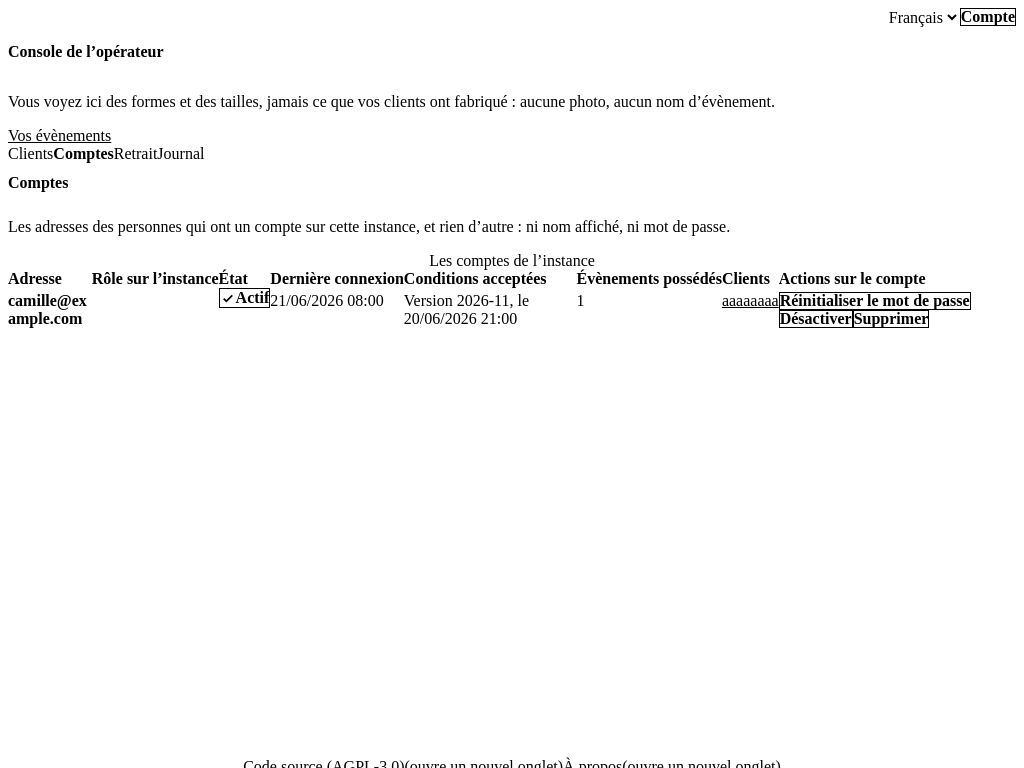
Scenario: the console’s accounts: resetting a password › asks for the reset in the language of the console, and says it went to the account’s own address
Click the button "Réinitialiser le mot de passe".
click(875, 301)  # box [779,292,971,310]
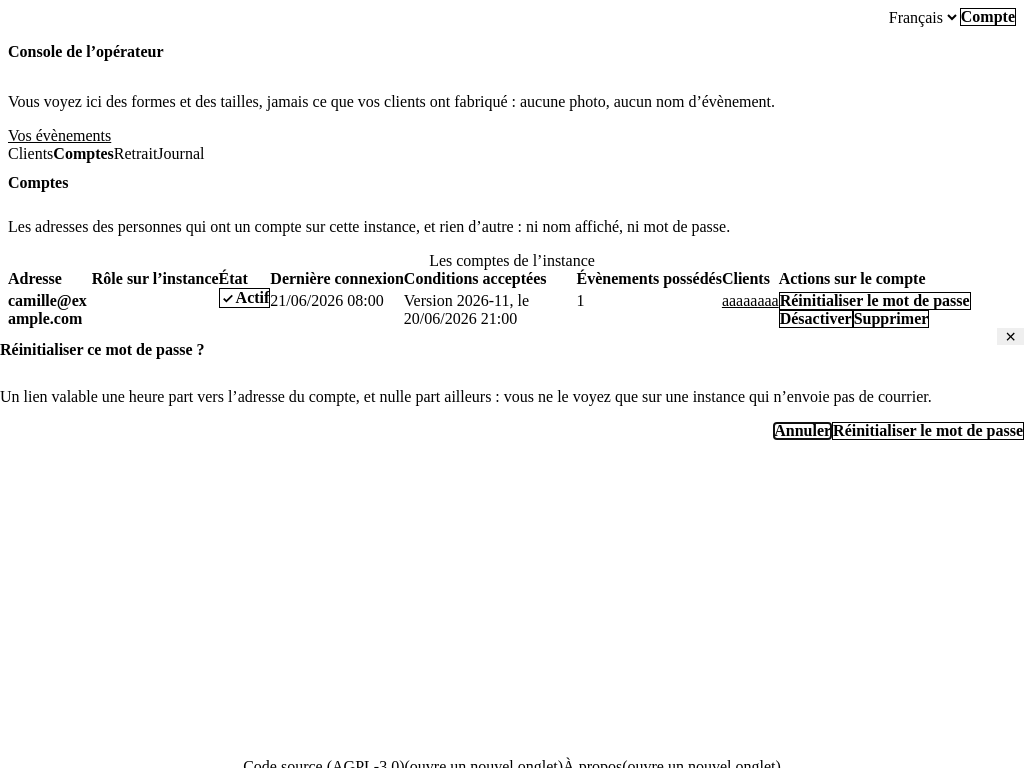
Click the button "Réinitialiser le mot de passe".
click(928, 431)  # box [832,422,1023,440]
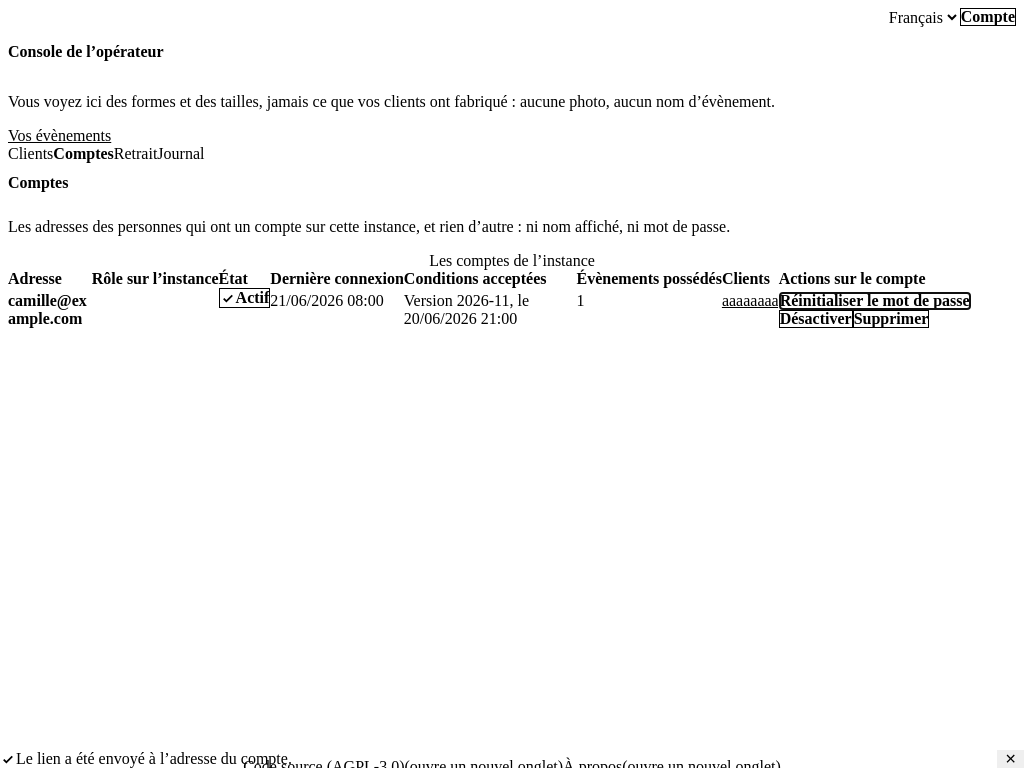
Result: the text "Le lien a été envoyé à l’adresse du compte." is shown at [16,750,292,767]
